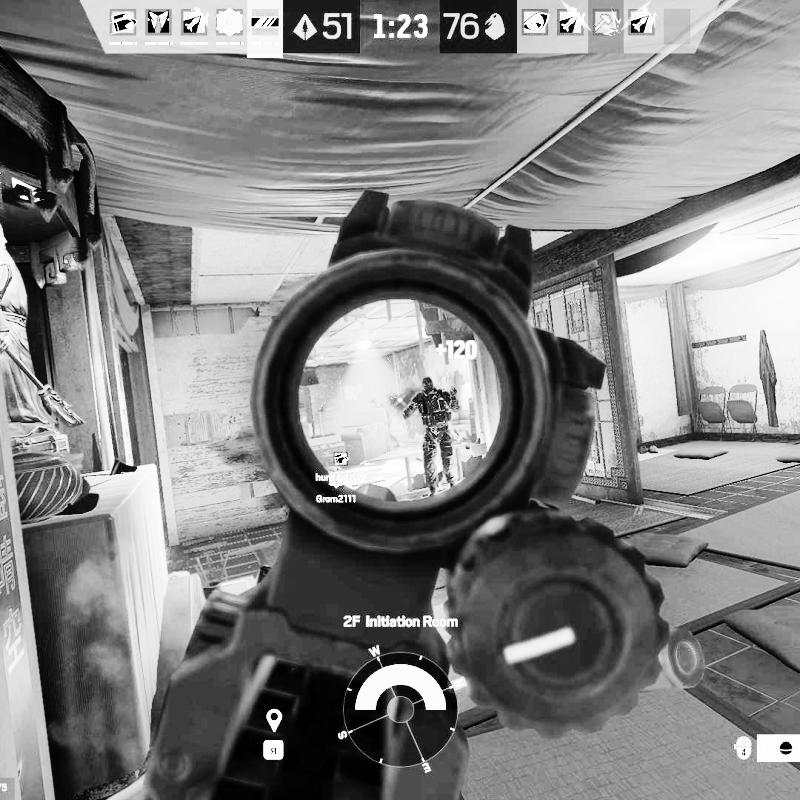Character: (400, 375, 462, 498), (370, 396, 401, 450)
Friend_label: (314, 451, 366, 482), (315, 471, 357, 503)
Head: (420, 377, 434, 393)
